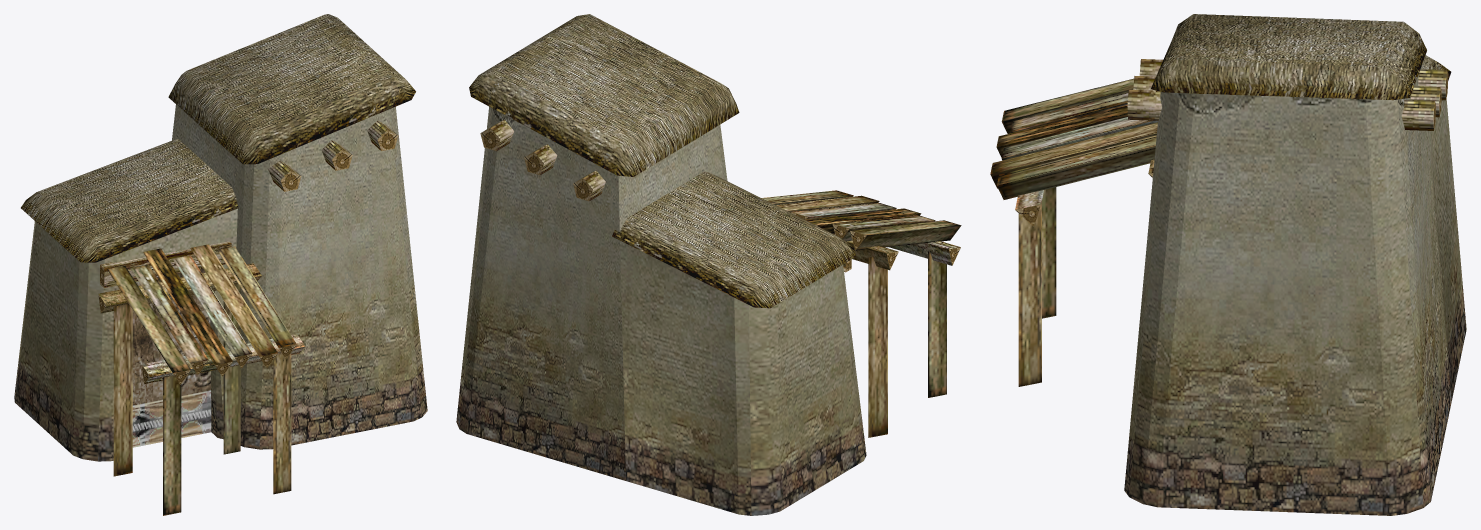
The model's file is iber_house_a.dae.
3 renders of one model, left to right at view 1: azimuth 30°, elevation 25°; view 2: azimuth 150°, elevation 25°; view 3: azimuth 270°, elevation 25°, orthographic. The views are drawn at different scales.
Visible parts, largest first — view 1: house_1; view 2: house_1; view 3: house_1.
Boxes of the visible parts, x1,y1,x2,y2 form: house_1: [14, 14, 427, 515]; house_1: [456, 14, 961, 515]; house_1: [990, 14, 1466, 515].
Size of the model in its own units: 8.31 by 7.79 by 7.76.
